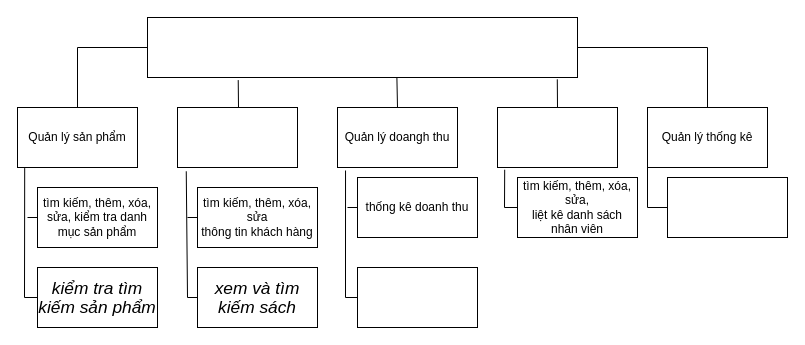
Some shapes in this 805 by 345 pixel diagram are drawn without their labels. The centre of each missing label's shape, as x and y in pixels:
báo cáo thống kê: point 417,297
lập bảng thống kê theo từng tháng, năm, sắp xếp: point 727,207
Quản lý khách hàng: point 237,137
Quản lý mua bán sách: point 362,47
Quản lý nhân viên: point 557,137
